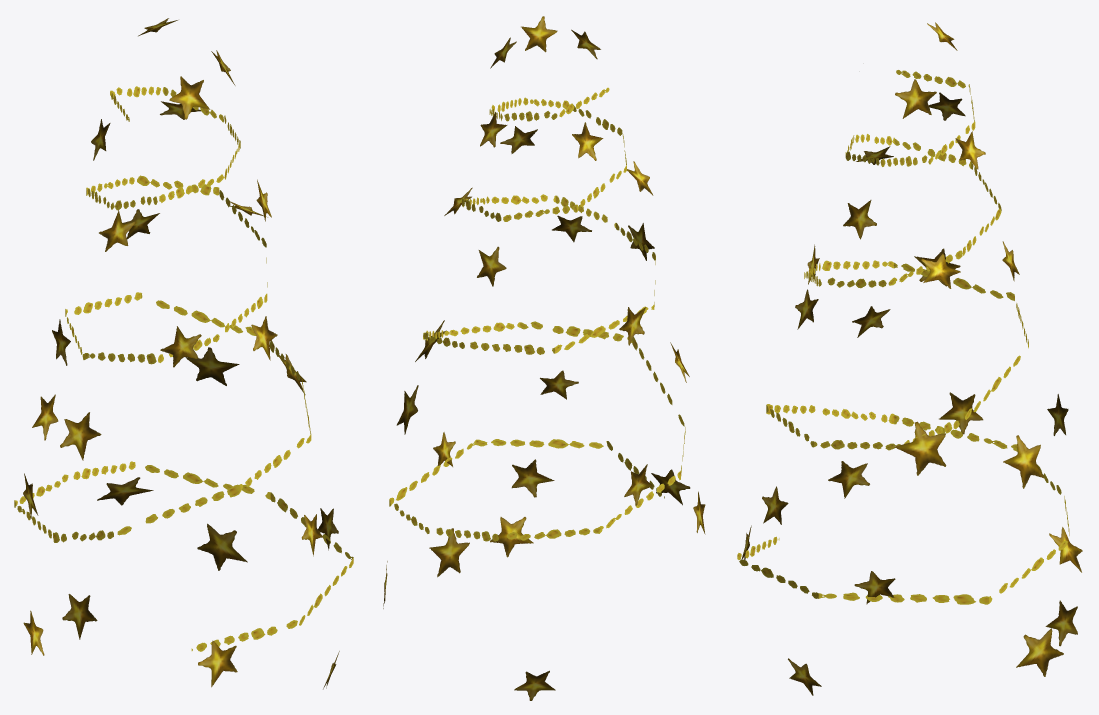
File: christmas_light_b.FBX
The picture shows the model from 3 angles, left to right: view 1: azimuth 30°, elevation 25°; view 2: azimuth 150°, elevation 25°; view 3: azimuth 270°, elevation 25°; orthographic projection. The views are drawn at different scales.
Visible parts, largest first — view 1: christmas_light_b; view 2: christmas_light_b; view 3: christmas_light_b.
Part boxes in pixels (x1=…): christmas_light_b: x1=14, y1=18, x2=353, y2=689; christmas_light_b: x1=383, y1=16, x2=705, y2=700; christmas_light_b: x1=737, y1=22, x2=1082, y2=695.
Bounding box in the file's own units: 575 × 1366 × 659.
Materials: 1 (1 with a texture image).
